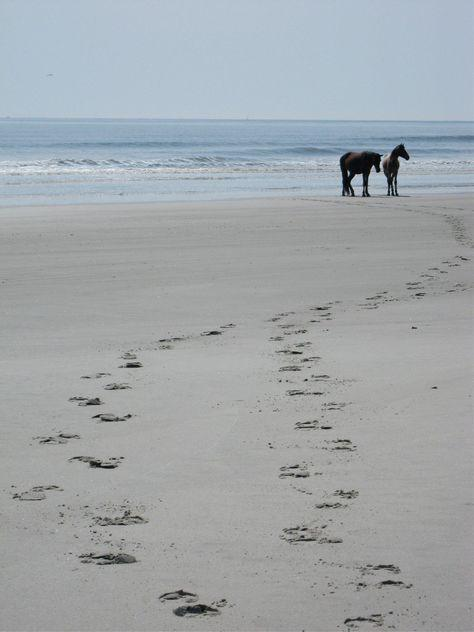horse: (339, 150, 382, 197), (380, 142, 409, 196)
